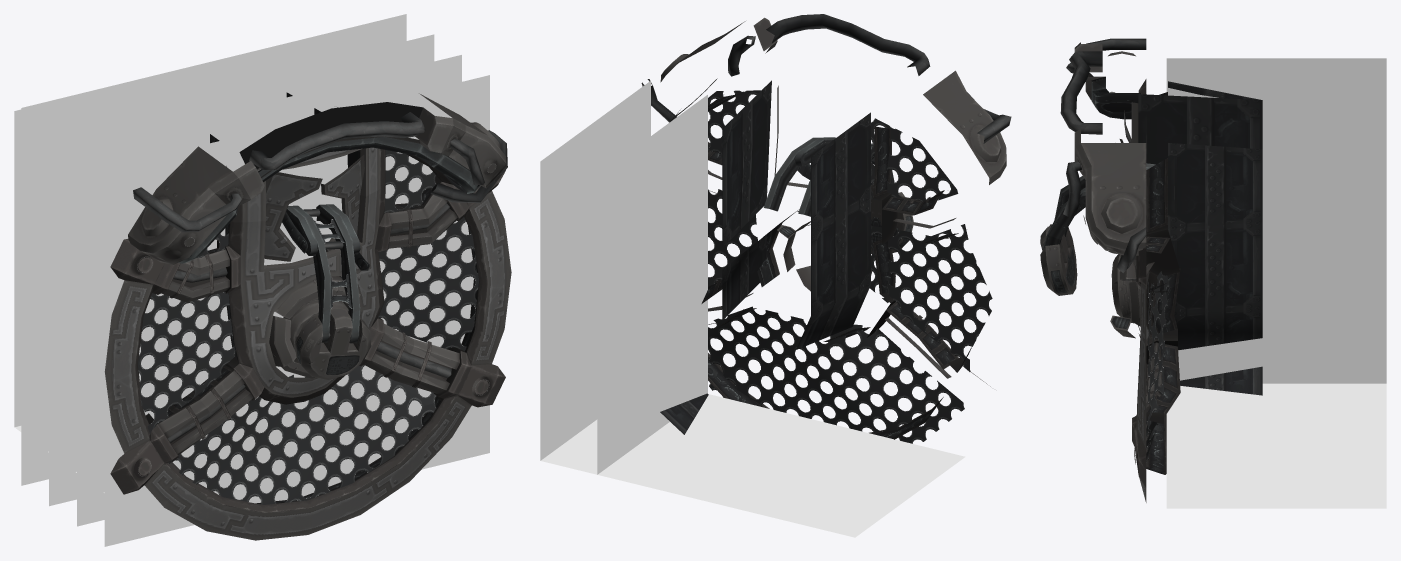
The picture shows the model from 3 angles, left to right: view 1: azimuth 30°, elevation 25°; view 2: azimuth 150°, elevation 25°; view 3: azimuth 270°, elevation 25°; orthographic projection. The views are drawn at different scales.
Parts seen in each view (by area): view 1: destroyed_alter.model-MeshNodes["base"], setpieces.part_model_fadeout-MeshSets[x3_fadeout].Mesh[0], setpieces.part_model_fadeout-MeshSets[x2_fadeout].Mesh[0], destroyed_alter.model-MeshNodes["grating"]; view 2: setpieces.part_model_fadeout-MeshSets[x3_fadeout].Mesh[0], setpieces.part_model_fadeout-MeshSets[x2_fadeout].Mesh[0], destroyed_alter.model-MeshNodes["grating"], destroyed_alter.model-MeshNodes["base"], destroyed_alter.model-MeshNodes["sub_base"]; view 3: setpieces.part_model_fadeout-MeshSets[x2_fadeout].Mesh[0], destroyed_alter.model-MeshNodes["sub_base"], destroyed_alter.model-MeshNodes["base"], setpieces.part_model_fadeout-MeshSets[x3_fadeout].Mesh[0], destroyed_alter.model-MeshNodes["grating"].
Part boxes in pixels (x1,y1,x2,y2): destroyed_alter.model-MeshNodes["base"]: (104, 93, 511, 540); setpieces.part_model_fadeout-MeshSets[x3_fadeout].Mesh[0]: (14, 14, 489, 546); setpieces.part_model_fadeout-MeshSets[x2_fadeout].Mesh[0]: (81, 29, 429, 531); destroyed_alter.model-MeshNodes["grating"]: (138, 150, 478, 504); setpieces.part_model_fadeout-MeshSets[x3_fadeout].Mesh[0]: (540, 81, 965, 537); setpieces.part_model_fadeout-MeshSets[x2_fadeout].Mesh[0]: (597, 95, 907, 474); destroyed_alter.model-MeshNodes["grating"]: (708, 90, 992, 443); destroyed_alter.model-MeshNodes["base"]: (641, 14, 1011, 439); destroyed_alter.model-MeshNodes["sub_base"]: (660, 80, 870, 434); setpieces.part_model_fadeout-MeshSets[x2_fadeout].Mesh[0]: (1166, 86, 1386, 480); destroyed_alter.model-MeshNodes["sub_base"]: (1138, 81, 1262, 395); destroyed_alter.model-MeshNodes["base"]: (1040, 38, 1180, 502); setpieces.part_model_fadeout-MeshSets[x3_fadeout].Mesh[0]: (1166, 58, 1386, 508); destroyed_alter.model-MeshNodes["grating"]: (1146, 271, 1169, 461).
Size of the model in its own units: 7.6 by 7.92 by 5.96.
5 materials, 3 textured.
